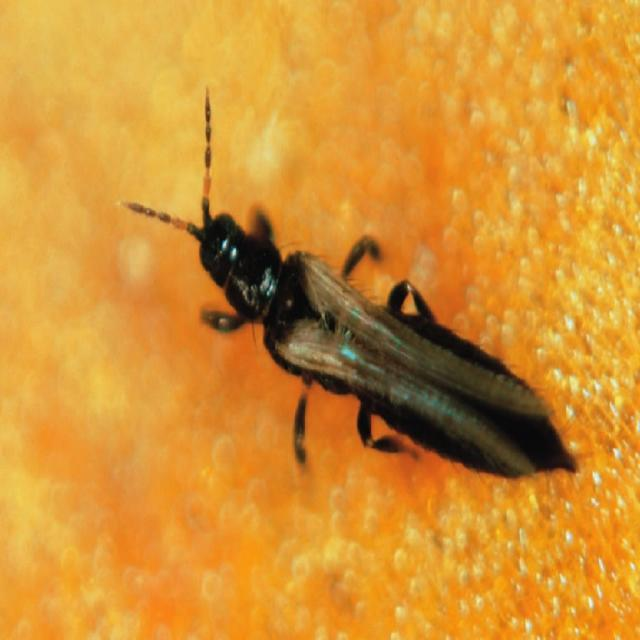Thrip-Adult-: (124, 57, 590, 502)
